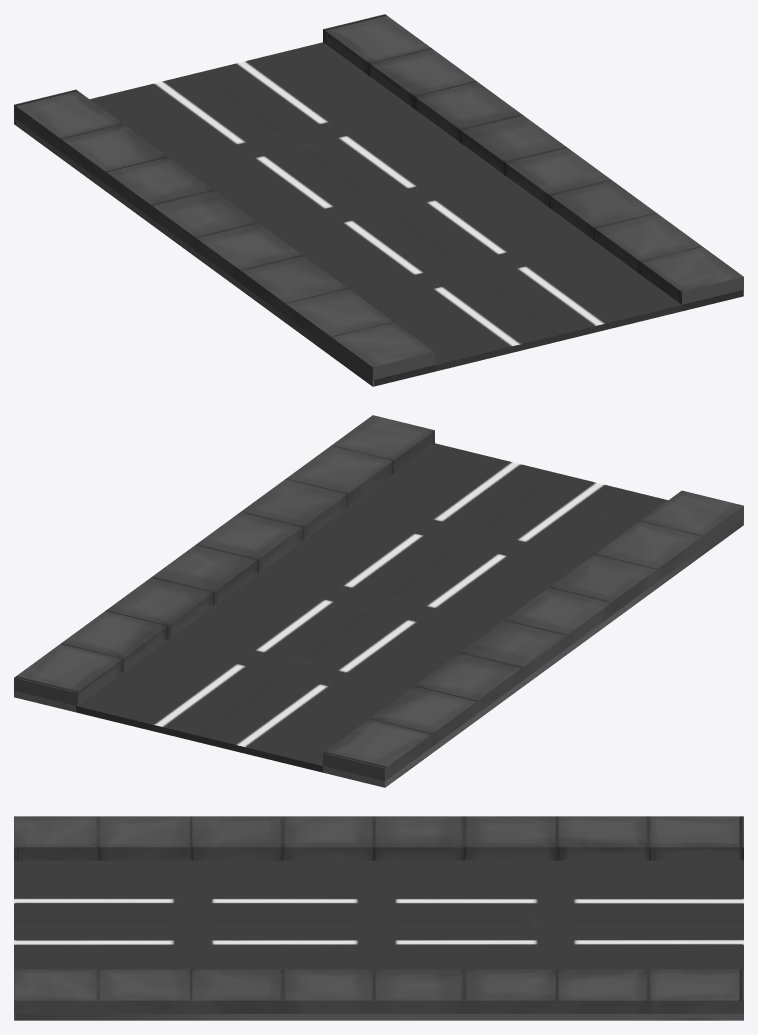
Rendered from jalan.fbx.
3 views of the same model, one above another, from view 1: azimuth 30°, elevation 25°; view 2: azimuth 150°, elevation 25°; view 3: azimuth 270°, elevation 25° (orthographic).
Visible parts, largest first — view 1: Cube; view 2: Cube; view 3: Cube.
Part boxes in pixels (bbox=[...]): Cube: bbox=[14, 14, 743, 386]; Cube: bbox=[14, 415, 743, 787]; Cube: bbox=[14, 816, 743, 1020].
Size of the model in its own units: 1194 by 60 by 2000.
1 material, 1 textured.
